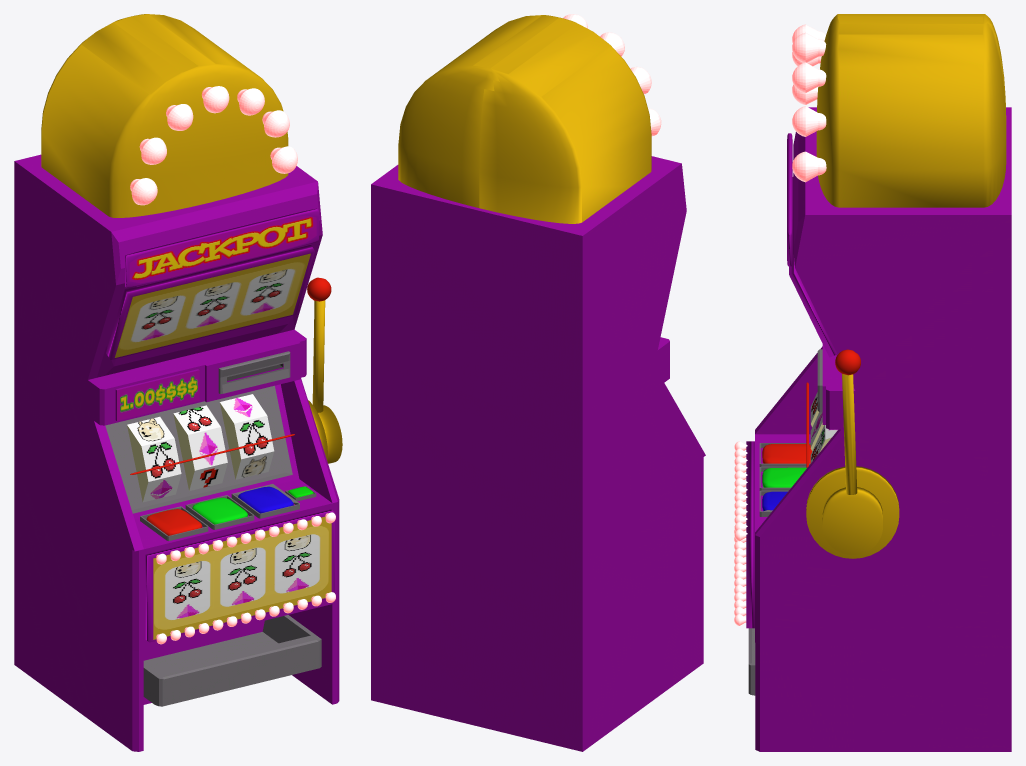
File: skSlot1.glb
The picture shows the model from 3 angles, left to right: view 1: azimuth 30°, elevation 25°; view 2: azimuth 150°, elevation 25°; view 3: azimuth 270°, elevation 25°; orthographic projection. The views are drawn at different scales.
Visible parts, largest first — view 1: Cube_Material.001_0, Cube.015_Material.006_0, Cylinder.002, Sphere.002_Material.008_0, Cube.025_Material.013_0, Cube.026_Material.016_0; view 2: Cube_Material.001_0, Sphere.002_Material.008_0; view 3: Cube_Material.001_0, Sphere.002_Material.008_0, Cylinder.002.
Boxes of the visible parts, bbox=[...] form: Cube_Material.001_0: bbox=[14, 14, 342, 751]; Cube.015_Material.006_0: bbox=[115, 253, 331, 639]; Cylinder.002: bbox=[127, 394, 274, 502]; Sphere.002_Material.008_0: bbox=[130, 86, 335, 644]; Cube.025_Material.013_0: bbox=[129, 215, 316, 283]; Cube.026_Material.016_0: bbox=[117, 370, 199, 420]; Cube_Material.001_0: bbox=[371, 15, 705, 751]; Sphere.002_Material.008_0: bbox=[563, 14, 661, 136]; Cube_Material.001_0: bbox=[746, 14, 1011, 751]; Sphere.002_Material.008_0: bbox=[734, 24, 826, 625]; Cylinder.002: bbox=[810, 392, 837, 463].
Size of the model in its own units: 5.79 by 14.63 by 5.46.
13 materials, 13 textured.
